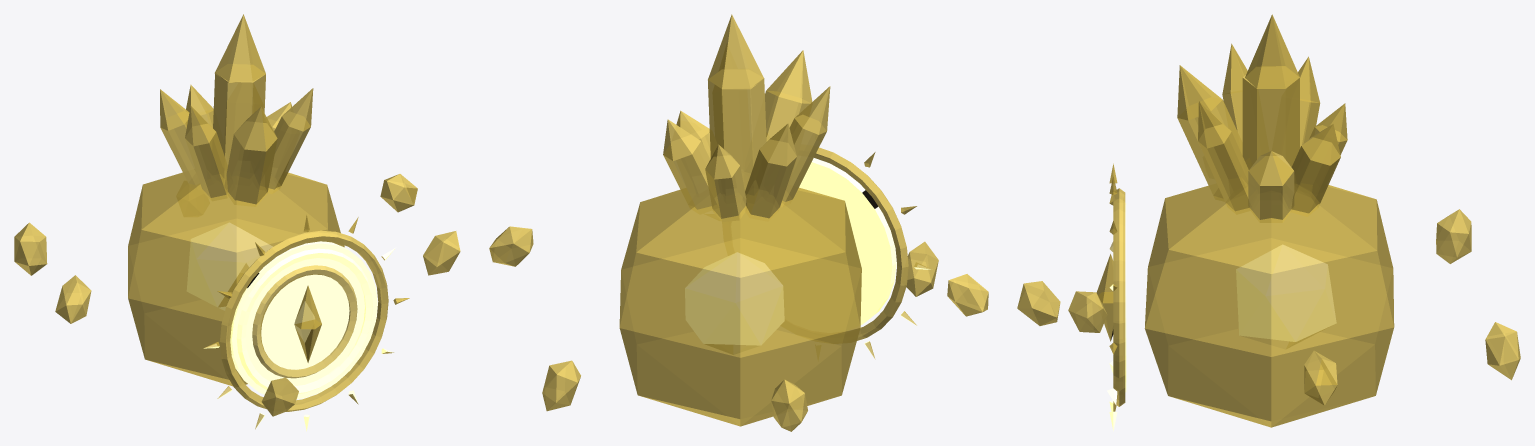
Rendered from fruto-essencia.glb.
3 views of the same model, side by side, from view 1: azimuth 30°, elevation 25°; view 2: azimuth 150°, elevation 25°; view 3: azimuth 270°, elevation 25° (orthographic). The views are drawn at different scales.
Parts seen in each view (by area): view 1: Fruit_Body; view 2: Fruit_Body; view 3: Fruit_Body.
Part boxes in pixels (x1,y1,x2,y2): Fruit_Body: (14, 14, 460, 431); Fruit_Body: (489, 14, 988, 431); Fruit_Body: (1017, 14, 1520, 431).
Bounding box in the file's own units: 1.82 × 1.61 × 1.75.
